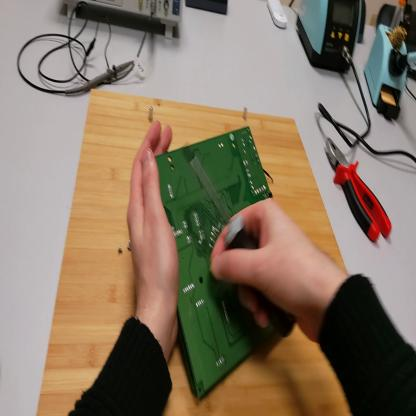hand: (212, 197, 325, 338), (129, 115, 183, 346)
low voltage board: (158, 129, 278, 402)
oscilloscope: (65, 3, 183, 38)
oscilloscope probe tip: (67, 61, 136, 96)
pliers: (326, 137, 394, 246)
screwdriver-: (186, 155, 298, 338)
socket: (378, 4, 416, 47), (360, 4, 369, 46)
welder base: (366, 2, 410, 125)
welder probe tip: (398, 51, 416, 75)
welder station: (298, 2, 363, 73)
working area: (37, 87, 353, 415)
